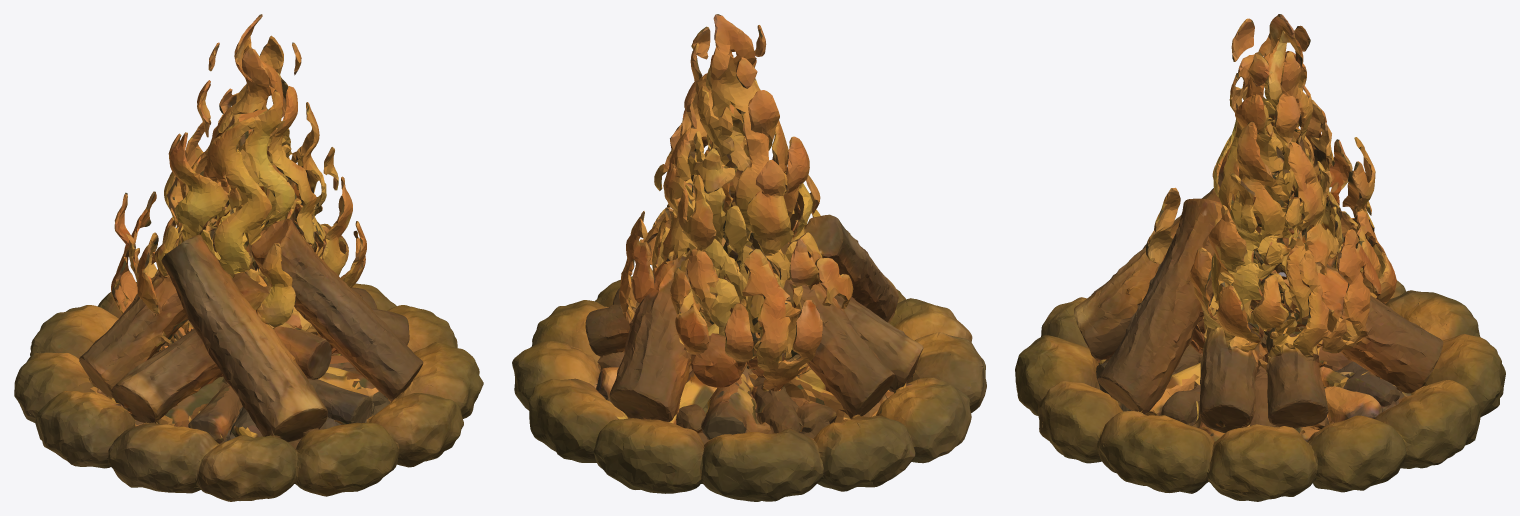
The model's file is prop-campfire.glb.
The picture shows the model from 3 angles, left to right: view 1: azimuth 30°, elevation 25°; view 2: azimuth 150°, elevation 25°; view 3: azimuth 270°, elevation 25°; orthographic projection. The views are drawn at different scales.
Parts seen in each view (by area): view 1: geometry_0; view 2: geometry_0; view 3: geometry_0.
Part boxes in pixels (<box>): geometry_0: <box>14,14,483,501</box>; geometry_0: <box>512,14,986,501</box>; geometry_0: <box>1015,14,1505,501</box>.
Size of the model in its own units: 1.99 by 1.85 by 2.
Materials: 1 (1 with a texture image).
